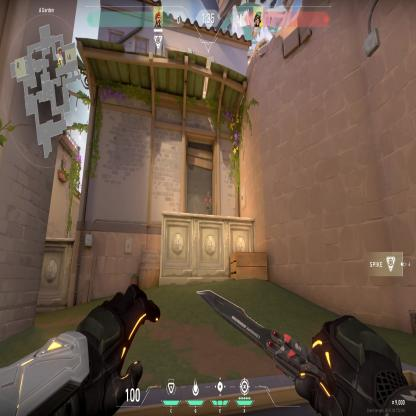enemy: (204, 189, 212, 215)
